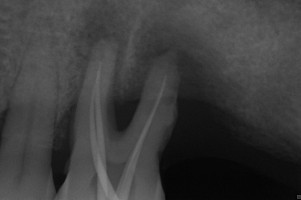Dental Caries: (70, 1, 227, 134)
